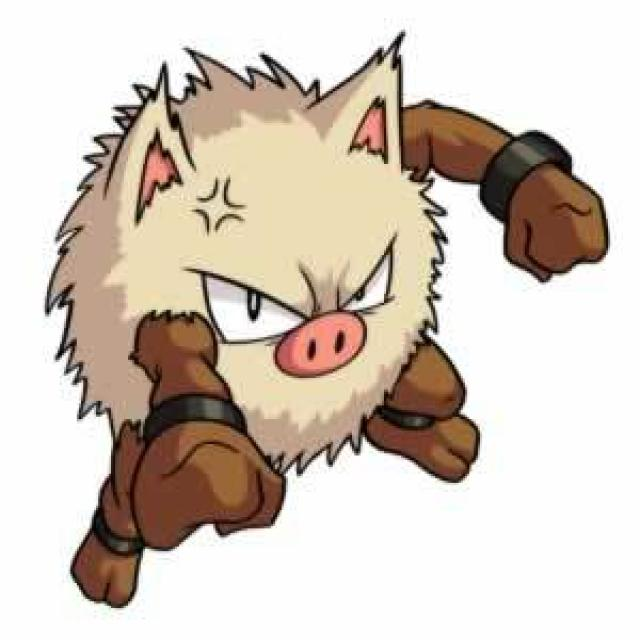Primeape: (80, 32, 476, 574)
